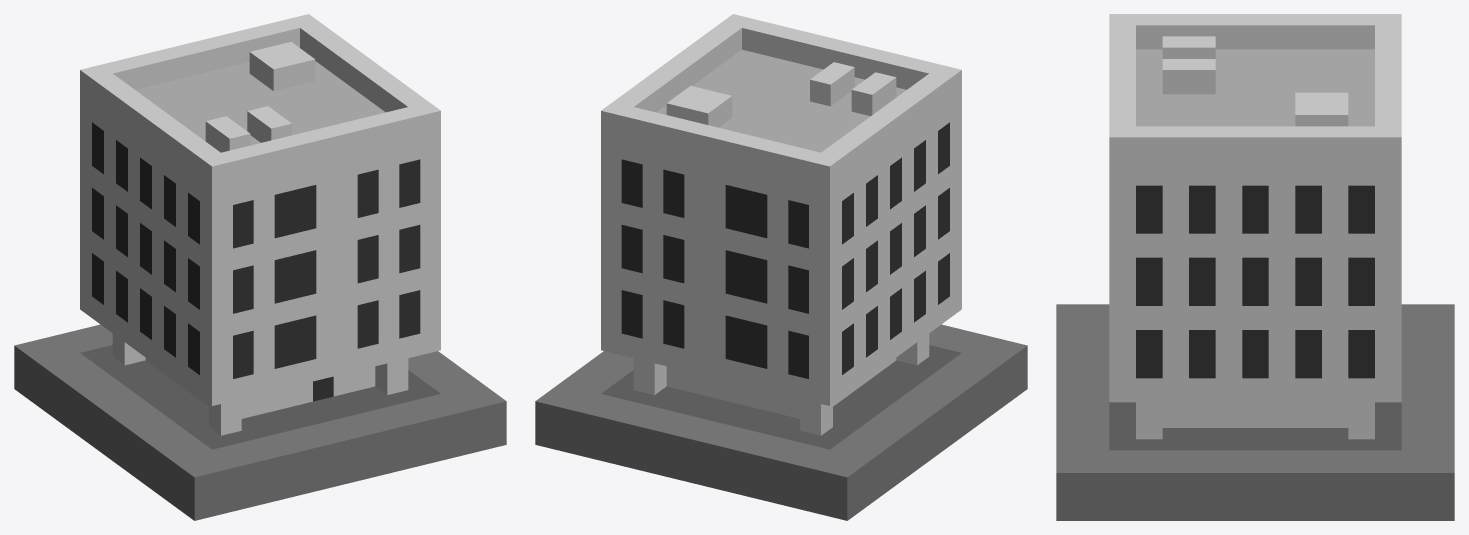
The model's file is Building06.obj.
3 views of the same model, side by side, from view 1: azimuth 30°, elevation 25°; view 2: azimuth 150°, elevation 25°; view 3: azimuth 270°, elevation 25° (orthographic). The views are drawn at different scales.
Parts seen in each view (by area): view 1: Building06; view 2: Building06; view 3: Building06.
Part boxes in pixels (box(x1,y1,x2,y2)): Building06: box(14, 14, 506, 520); Building06: box(535, 14, 1027, 520); Building06: box(1056, 14, 1454, 520).
Bounding box in the file's own units: 1.5 × 1.5 × 1.5.
1 material, 1 textured.
